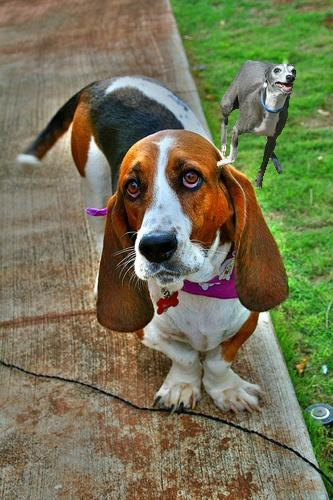tampered: (218, 61, 296, 188)
